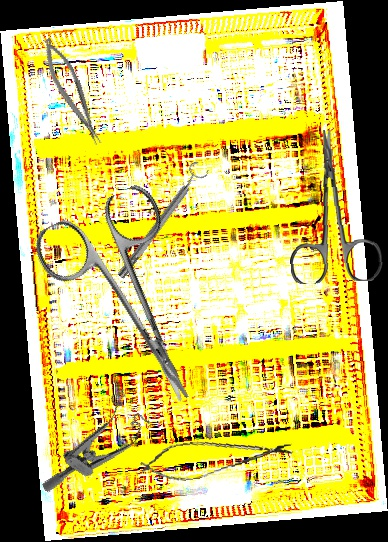Fixation Ring: (110, 159, 212, 283)
Iris Scissors: (26, 179, 240, 431), (283, 127, 384, 285)
Micro Scissor: (137, 428, 296, 487)
Needle Holder: (36, 33, 107, 151)
Speculum: (40, 381, 158, 518)
